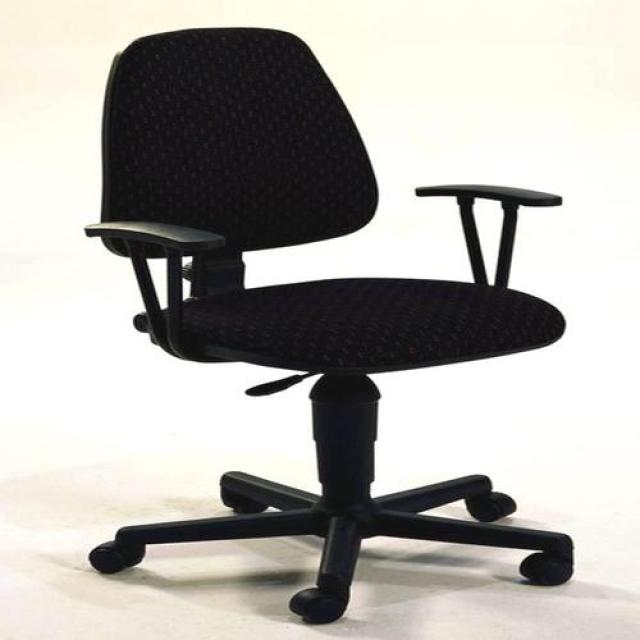swivelchair: (83, 28, 575, 627)
